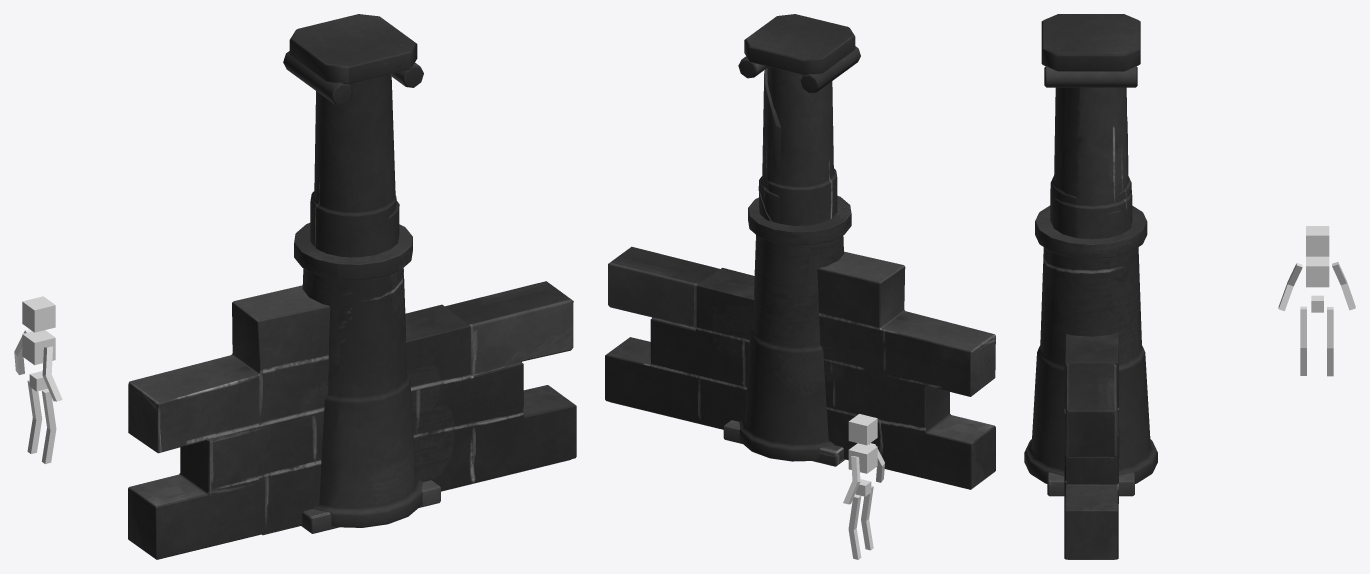
File: Ruin-stuff.fbx
3 renders of one model, left to right at view 1: azimuth 30°, elevation 25°; view 2: azimuth 150°, elevation 25°; view 3: azimuth 270°, elevation 25°, orthographic. The views are drawn at different scales.
Visible parts, largest first — view 1: Wall_01, Column_02, Column_01, Wall_02, Cube, Column_03, Platform_01; view 2: Wall_01, Column_02, Column_01, Wall_02, Cube, Column_03, Platform_01; view 3: Column_02, Column_03, Column_01, Wall_01, Wall_02, Cube, Column_04, Platform_01.
Boxes of the visible parts, x1,y1,x2,y2 form: Wall_01: (128, 285, 576, 559); Column_02: (294, 223, 422, 527); Column_01: (283, 14, 423, 257); Wall_02: (262, 281, 573, 535); Cube: (14, 296, 62, 463); Column_03: (377, 76, 399, 253); Platform_01: (301, 480, 440, 533); Wall_01: (605, 251, 995, 489); Column_02: (739, 195, 851, 461); Column_01: (738, 14, 860, 225); Wall_02: (608, 246, 848, 460); Cube: (843, 414, 884, 559); Column_03: (759, 68, 781, 223); Platform_01: (723, 420, 845, 466); Column_02: (1024, 205, 1157, 483); Column_03: (1051, 87, 1132, 239); Column_01: (1041, 14, 1140, 221); Wall_01: (1064, 333, 1119, 559); Wall_02: (1065, 363, 1117, 559); Cube: (1278, 226, 1355, 376); Column_04: (1092, 210, 1131, 239); Platform_01: (1047, 472, 1134, 496).
Bounding box in the file's own units: 509 × 533 × 369.
